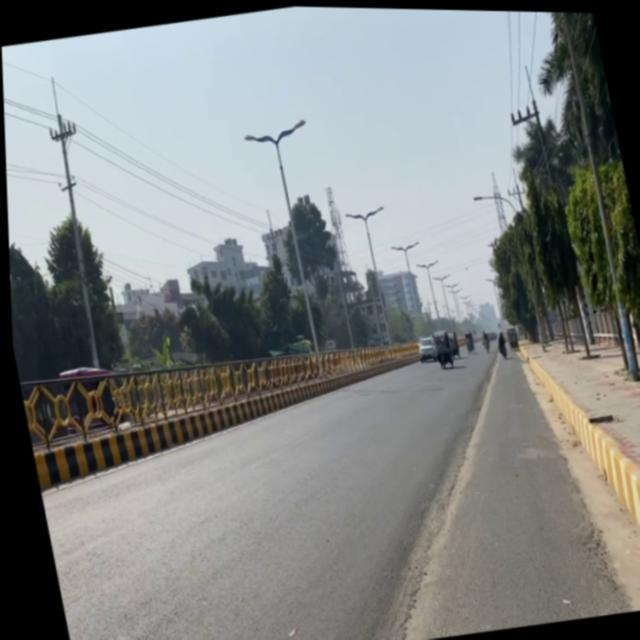Construction-barrier: (579, 400, 640, 604)
Garbage: (432, 346, 452, 368)
Garbage-bin: (493, 328, 506, 357)
Light-pole: (549, 10, 639, 379)
Pole: (22, 326, 285, 517)
Pothole: (499, 314, 640, 620)
Traffic-cone: (262, 331, 311, 359)
